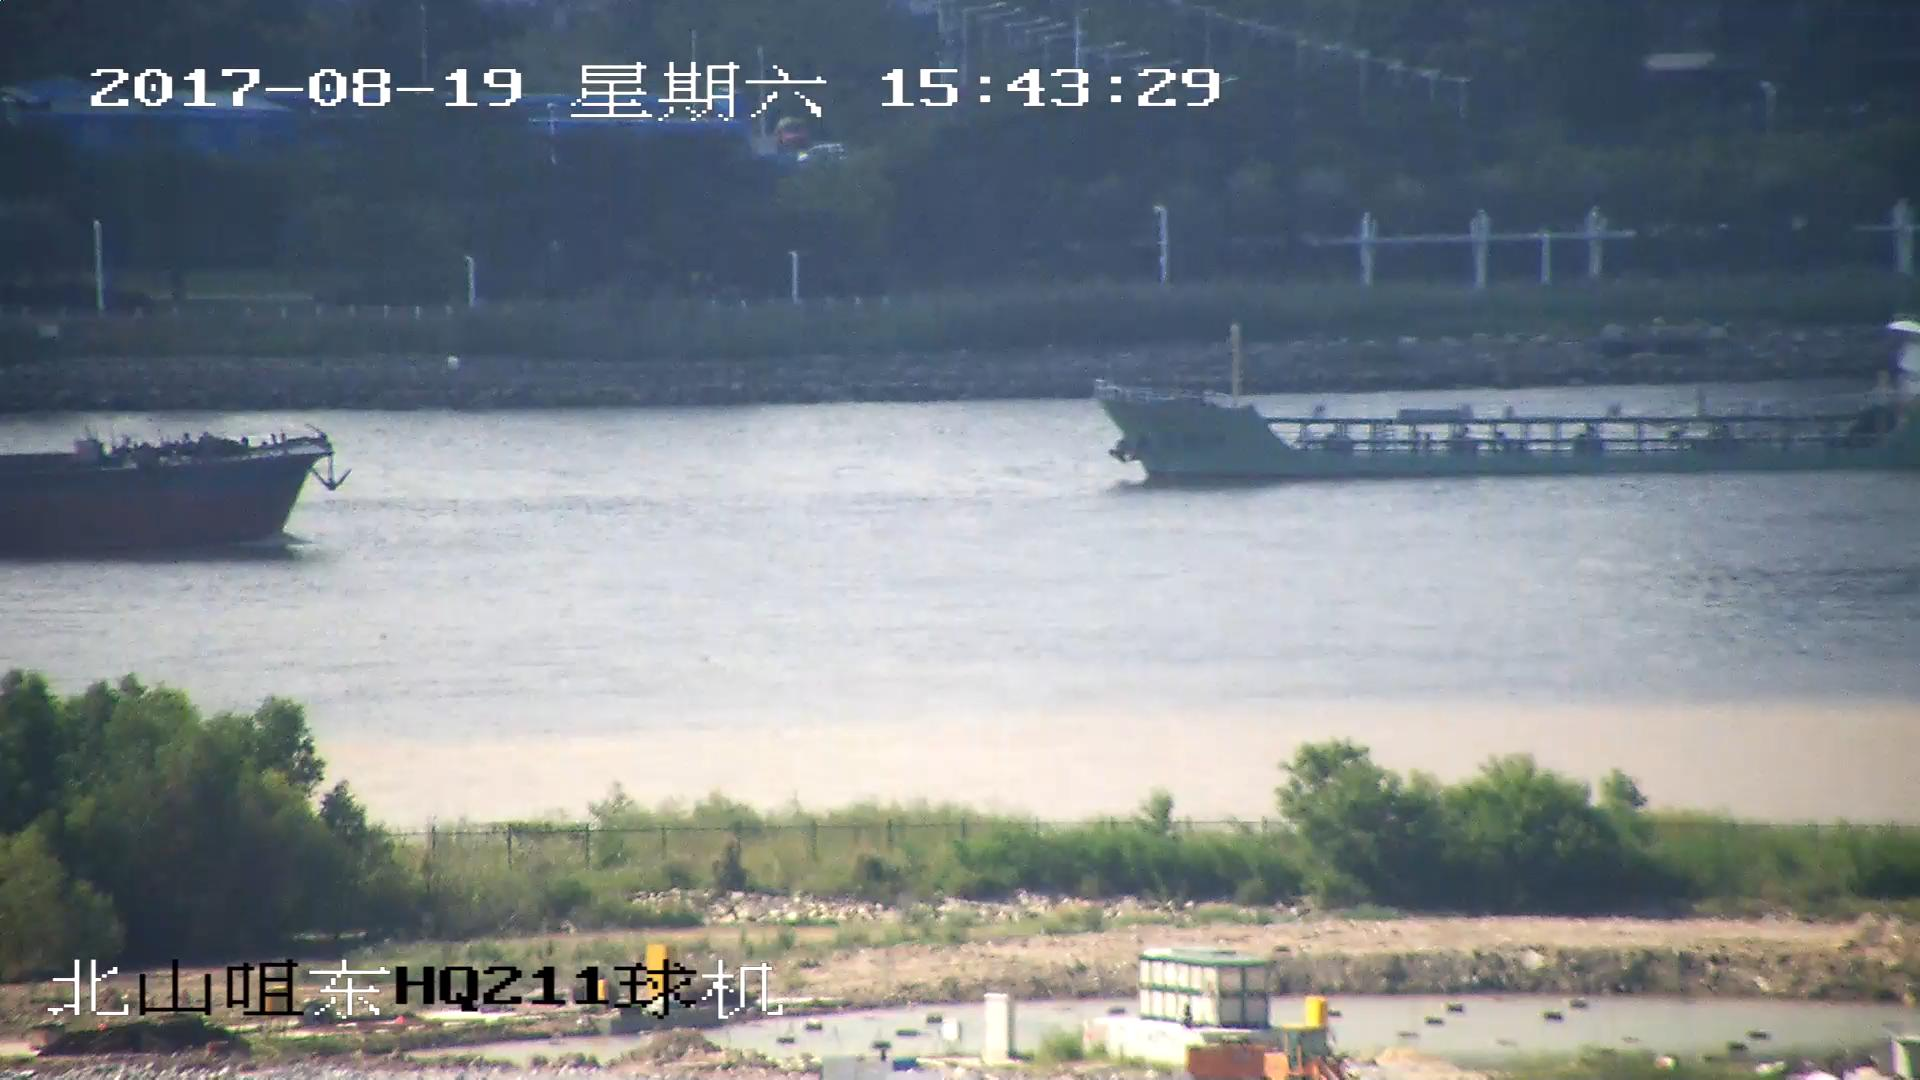bulk cargo carrier: (1, 432, 342, 545)
general cargo ship: (1101, 326, 1920, 480)
